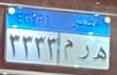3: (45, 32, 57, 62), (8, 29, 20, 57), (21, 33, 34, 58), (35, 32, 44, 60)
ر: (75, 44, 92, 62)
م: (58, 37, 75, 64)
ه: (91, 41, 107, 60)
